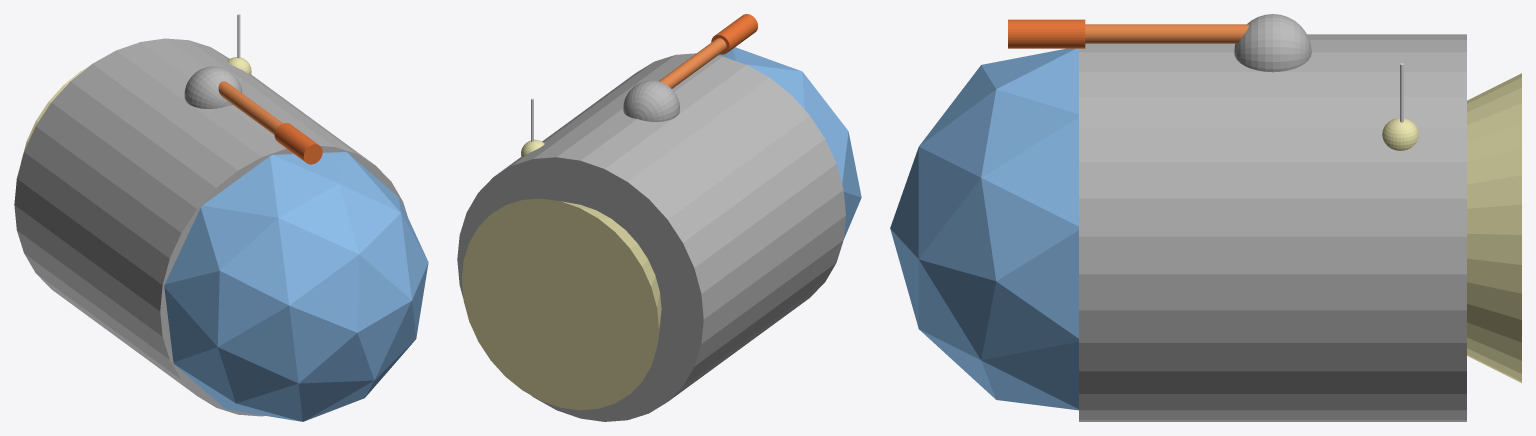
Rendered from ship.fbx.
3 views of the same model, side by side, from view 1: azimuth 30°, elevation 25°; view 2: azimuth 150°, elevation 25°; view 3: azimuth 270°, elevation 25° (orthographic). The views are drawn at different scales.
Visible parts, largest first — view 1: Icosphere, Cylinder, Sphere, Cylinder.002, Cylinder.001; view 2: Cylinder, Cone, Icosphere, Sphere, Cylinder.001, Cylinder.002; view 3: Cylinder, Icosphere, Cone, Sphere, Cylinder.001, Cylinder.002, Sphere.001.
Part boxes in pixels (box(x1,y1,x2,y2)): Icosphere: box(164, 152, 428, 421); Cylinder: box(14, 38, 407, 416); Sphere: box(184, 66, 242, 108); Cylinder.002: box(274, 123, 322, 164); Cylinder.001: box(218, 81, 282, 134); Cylinder: box(457, 53, 845, 421); Cone: box(461, 198, 661, 410); Icosphere: box(718, 47, 861, 239); Sphere: box(623, 80, 679, 121); Cylinder.001: box(659, 38, 726, 88); Cylinder.002: box(711, 14, 757, 54); Cylinder: box(1079, 34, 1466, 421); Icosphere: box(890, 48, 1078, 410); Cone: box(1467, 73, 1521, 382); Sphere: box(1234, 14, 1311, 72); Cylinder.001: box(1085, 24, 1248, 43); Cylinder.002: box(1008, 19, 1085, 48); Sphere.001: box(1382, 117, 1418, 150).
Size of the model in its own units: 200 by 221 by 326.
